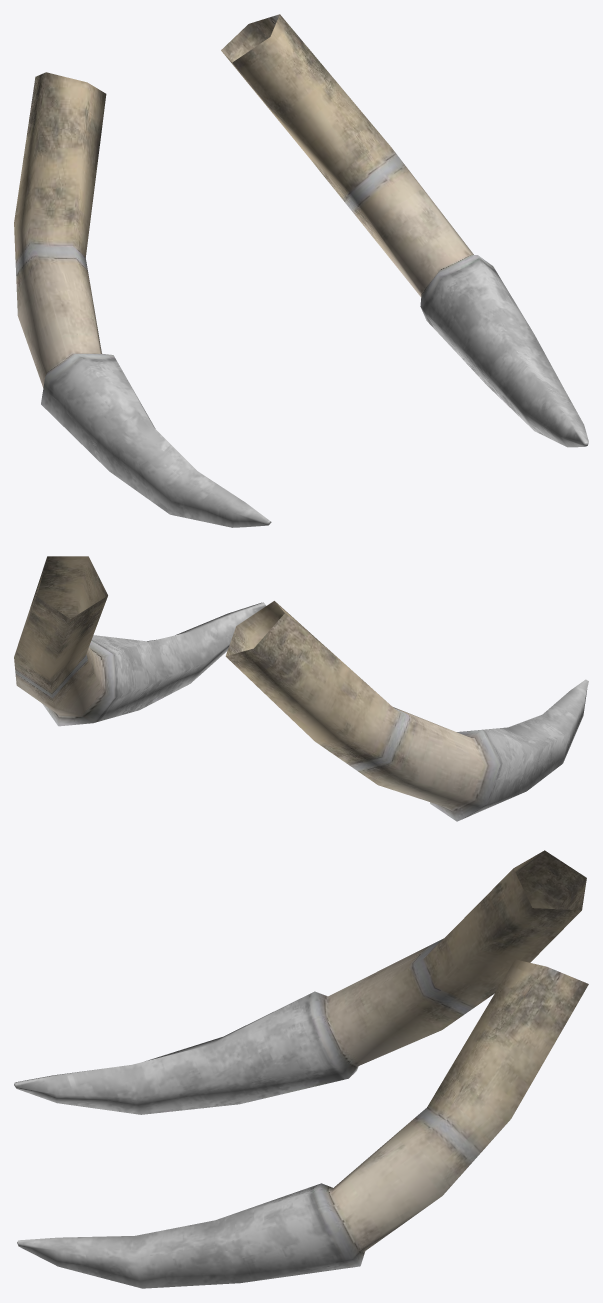
File: tusk-championwarelephants.glb
3 renders of one model, top to bottom at view 1: azimuth 30°, elevation 25°; view 2: azimuth 150°, elevation 25°; view 3: azimuth 270°, elevation 25°, orthographic.
Size of the model in its own units: 1.31 by 0.7939 by 1.43.
Materials: 1 (1 with a texture image).
